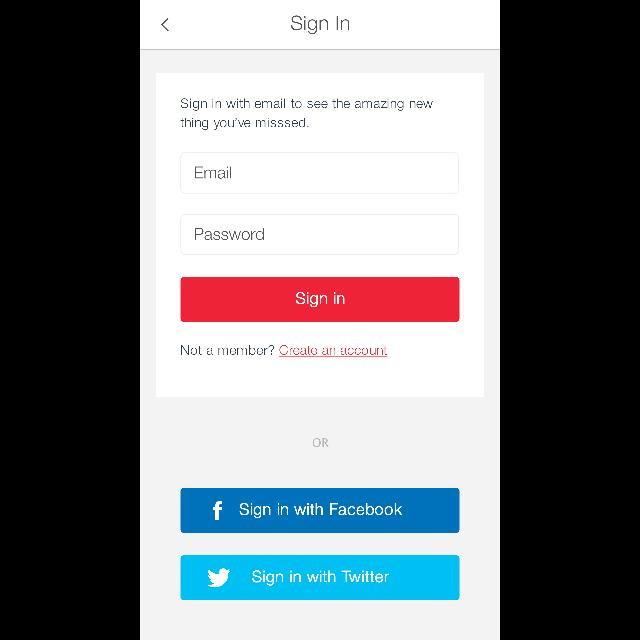icon: (161, 18, 169, 32)
input: (180, 152, 460, 194), (181, 213, 459, 254)
text: (181, 98, 433, 130), (181, 344, 387, 358), (291, 16, 349, 34), (196, 228, 264, 240), (194, 167, 232, 179), (313, 438, 329, 448)
textbutton: (180, 278, 460, 322), (180, 488, 460, 532), (180, 556, 460, 600)
toolbar: (140, 0, 500, 50)
